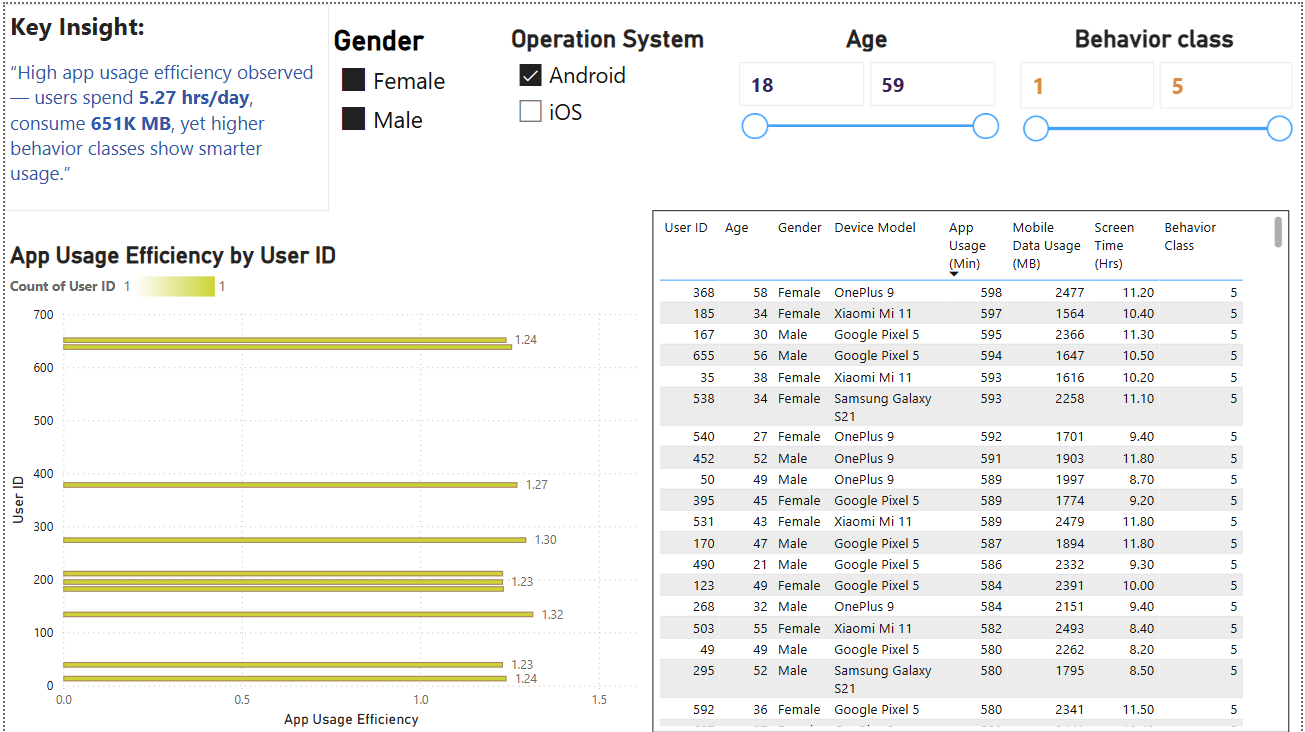

What the dashboard file says about the page in this screenshot:
{"tool":"powerbi","page":{"name":"App Usage & Efficiency","canvas":[1280,720],"ordinal":2},"visuals":[{"type":"barChart","fields":{"Category":["User Behaviour Data.User ID"],"Y":["User Behaviour Data.App Usage Efficiency"]},"box":[0,234.8,639.5,484.2],"z":0},{"type":"tableEx","fields":{"Values":["User Behaviour Data.User ID","User Behaviour Data.Age","User Behaviour Data.Gender","User Behaviour Data.Device Model","User Behaviour Data.App Usage (Min)","User Behaviour Data.Mobile Data Usage (MB)","User Behaviour Data.Screen Time (Hrs)","User Behaviour Data.Behavior Class"]},"box":[640,204.3,628.6,515.7],"z":1000},{"type":"actionButton","box":[0,0,100,40],"z":2000},{"type":"slicer","title":"Gender","fields":{"Values":["User Behaviour Data.Gender"]},"box":[320,20,157.5,150],"z":3000},{"type":"slicer","title":"Operation System","fields":{"Values":["User Behaviour Data.Operating System"]},"box":[495.2,19.6,217.7,150.4],"z":4000},{"type":"slicer","title":"Age","fields":{"Values":["User Behaviour Data.Age"]},"box":[712.5,20,277.5,150],"z":5000},{"type":"slicer","title":"Behavior class","fields":{"Values":["User Behaviour Data.Behavior Class"]},"box":[990,20,290,150],"z":6000},{"type":"textbox","box":[0,0,320,205],"z":7000}]}

Visuals, with their boxes in screenshot pixels (x1, y1, x2, y2), scaled from the page's 1280x720 canvas onto the 1305x732 screenshot:
barChart - User Behaviour Data.User ID x User Behaviour Data.App Usage Efficiency: 0 239 652 731
tableEx - User Behaviour Data.User ID x User Behaviour Data.Age: 652 208 1293 731
actionButton: 0 0 102 41
"Gender" slicer: 326 20 487 173
"Operation System" slicer: 505 20 727 173
"Age" slicer: 726 20 1009 173
"Behavior class" slicer: 1009 20 1304 173
textbox: 0 0 326 208
